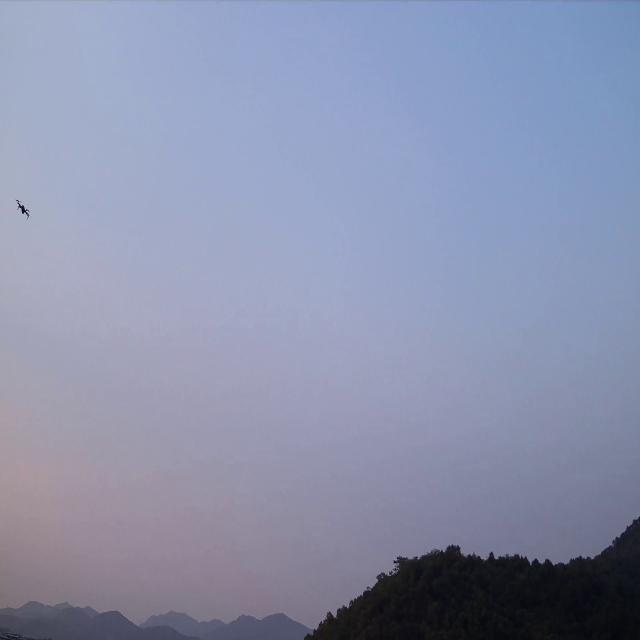UAV: (15, 199, 33, 222)
